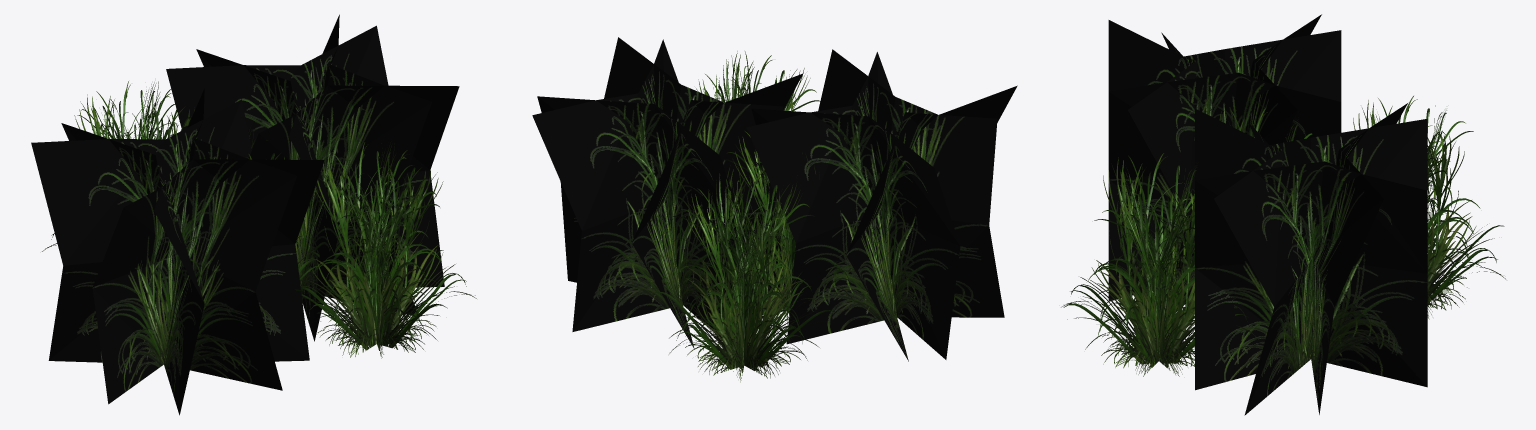
The model's file is grass low.fbx.
3 views of the same model, side by side, from view 1: azimuth 30°, elevation 25°; view 2: azimuth 150°, elevation 25°; view 3: azimuth 270°, elevation 25° (orthographic). The views are drawn at different scales.
Parts seen in each view (by area): view 1: group_2, group_0, group_3, group_1; view 2: group_2, group_0, group_1, group_4, group_3; view 3: group_0, group_2, group_3, group_1.
Boxes of the visible parts, box(x1,y1,x2,y2) form: group_2: box(31, 88, 324, 415); group_0: box(166, 14, 459, 341); group_3: box(300, 141, 476, 358); group_1: box(42, 81, 194, 251); group_2: box(746, 49, 1017, 361); group_0: box(532, 37, 803, 348); group_1: box(652, 165, 836, 382); group_4: box(722, 108, 854, 325); group_3: box(696, 51, 820, 210); group_0: box(1195, 103, 1427, 415); group_2: box(1108, 14, 1341, 311); group_3: box(1061, 153, 1255, 376); group_1: box(1353, 96, 1505, 319).
Bounding box in the file's own units: 174 × 93.42 × 185.
